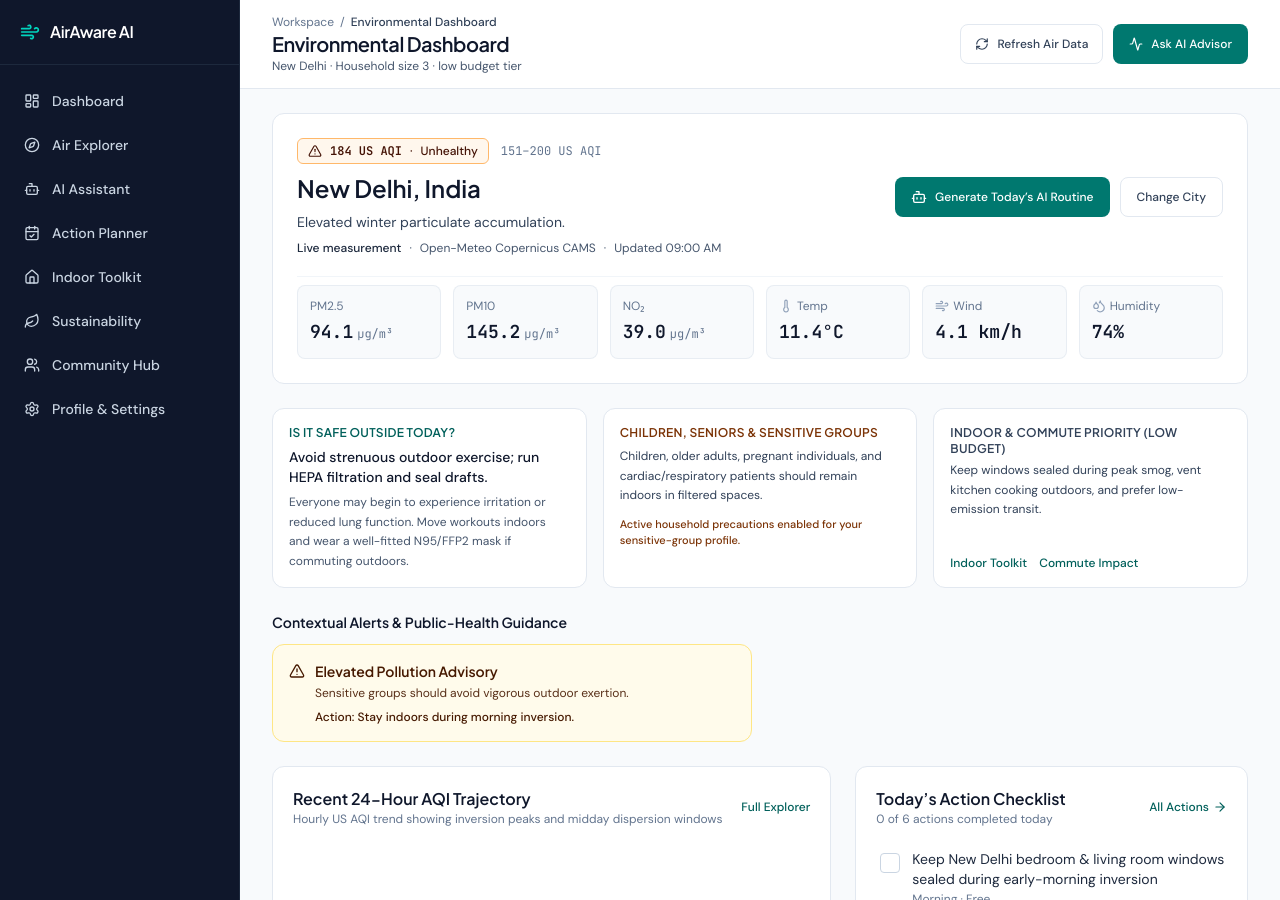
Test case: Core Workspace Pages Coverage › renders DashboardPage decision summary cards, alerts, and accessible checklist toggle
The width and height of the screenshot is (1280, 900).
Expected: the heading "Is It Safe Outside Today?" is shown, x1=289 y1=425 x2=455 y2=440
Expected: the heading "Children, Seniors & Sensitive Groups" is shown, x1=620 y1=425 x2=900 y2=441
Step 1. Click the button named "Mark \"Keep New Delhi bedroom & living room windows sealed du" → (890, 863), box x1=868 y1=841 x2=912 y2=885
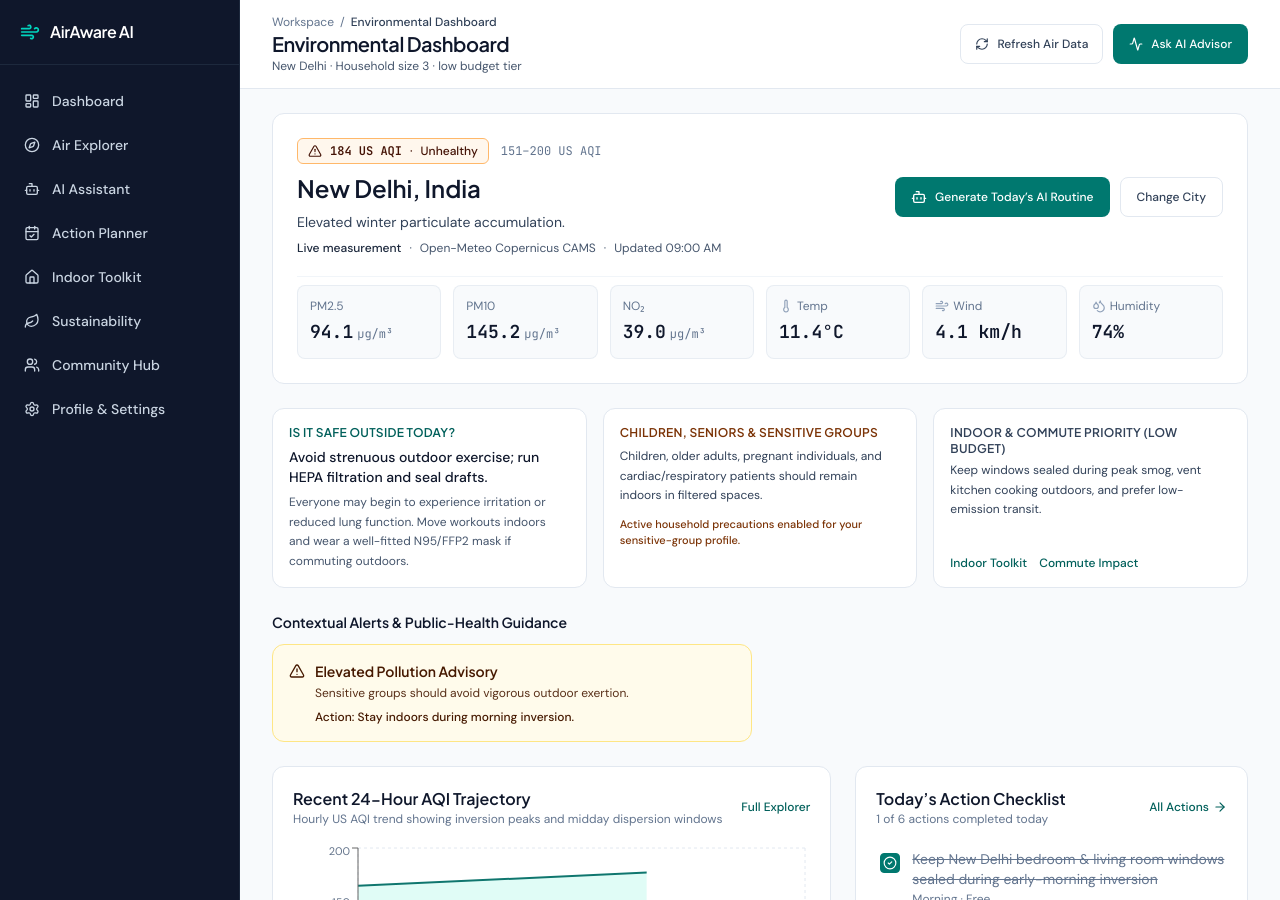
Result: the button named "Mark \"Keep New Delhi bedroom & living room windows sealed du" is pressed at x1=868 y1=841 x2=912 y2=885
